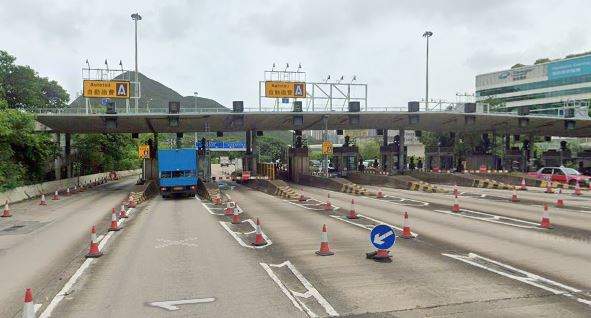Autotoll: (82, 80, 129, 100), (261, 77, 305, 97)
